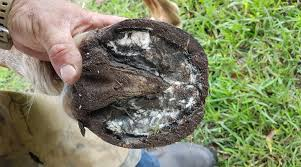horsesole: (81, 18, 210, 149)
